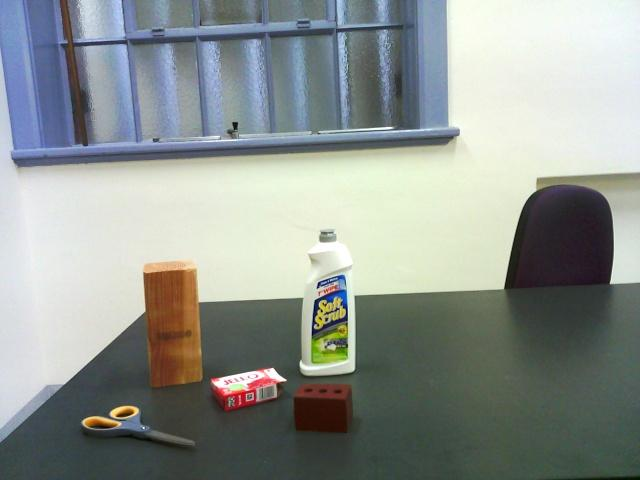009_gelatin_box: (210, 365, 287, 407)
021_bleach_cleanser: (302, 225, 355, 379)
036_wood_block: (141, 259, 205, 388)
037_scissors: (74, 401, 201, 460)
061_foam_brick: (290, 384, 359, 434)
